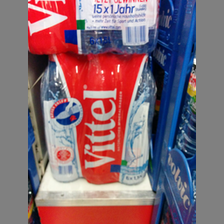water: (39, 53, 155, 186)
